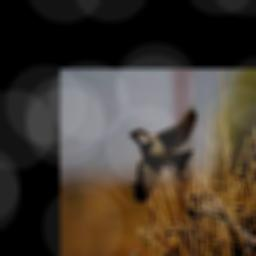Sparrow: (128, 106, 197, 202)
